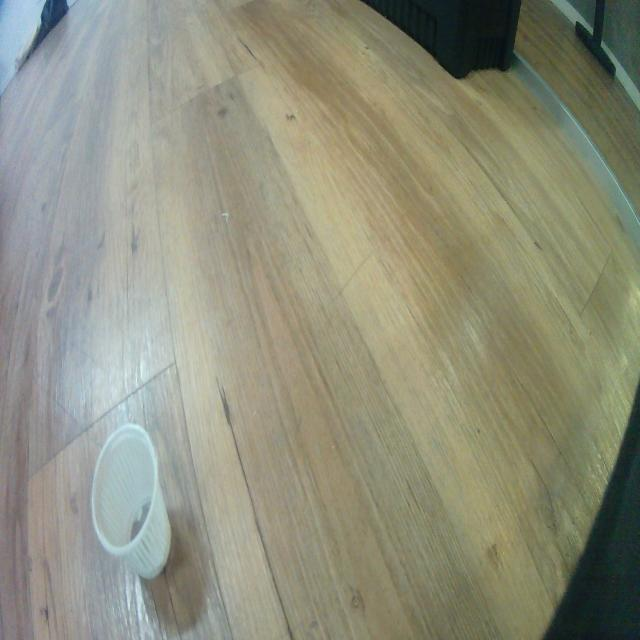planta: (91, 423, 171, 580)
